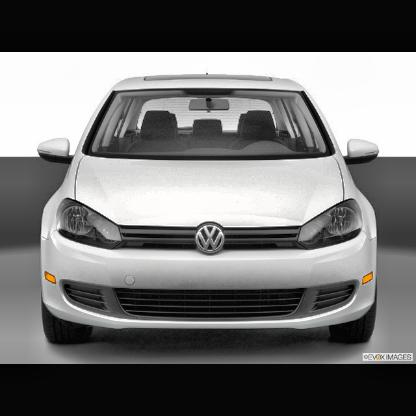Volkswagen Golf Hatchback 2012: (37, 73, 382, 346)
